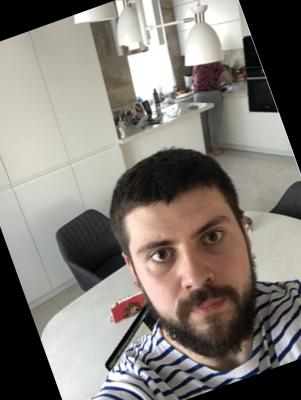without_mask: (124, 196, 279, 375)
